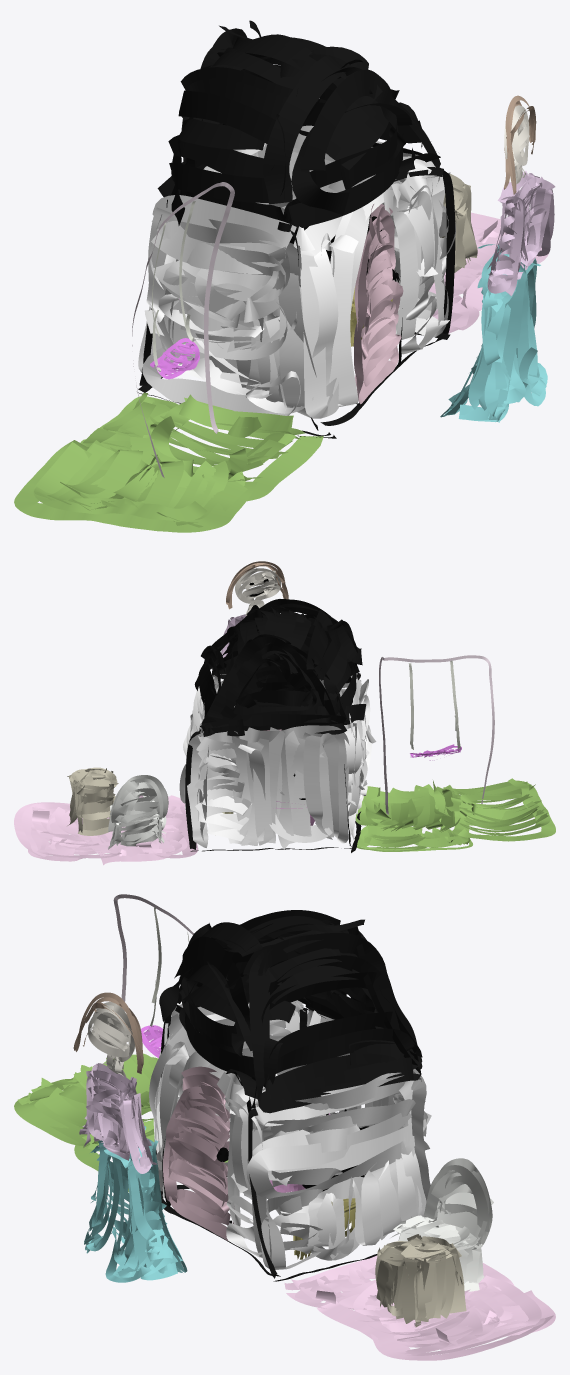
3 renders of one model, top to bottom at view 1: azimuth 30°, elevation 25°; view 2: azimuth 150°, elevation 25°; view 3: azimuth 270°, elevation 25°, orthographic. The views are drawn at different scales.
Visible parts, largest first — view 1: brush_Paper_g0_b0; view 2: brush_Paper_g0_b0; view 3: brush_Paper_g0_b0.
Boxes of the visible parts, x1,y1,x2,y2 form: brush_Paper_g0_b0: (14, 20, 555, 532); brush_Paper_g0_b0: (14, 561, 555, 865); brush_Paper_g0_b0: (14, 894, 555, 1360).
Bounding box in the file's own units: 4.49 × 2.18 × 3.47.
Materials: 1 (1 with a texture image).
